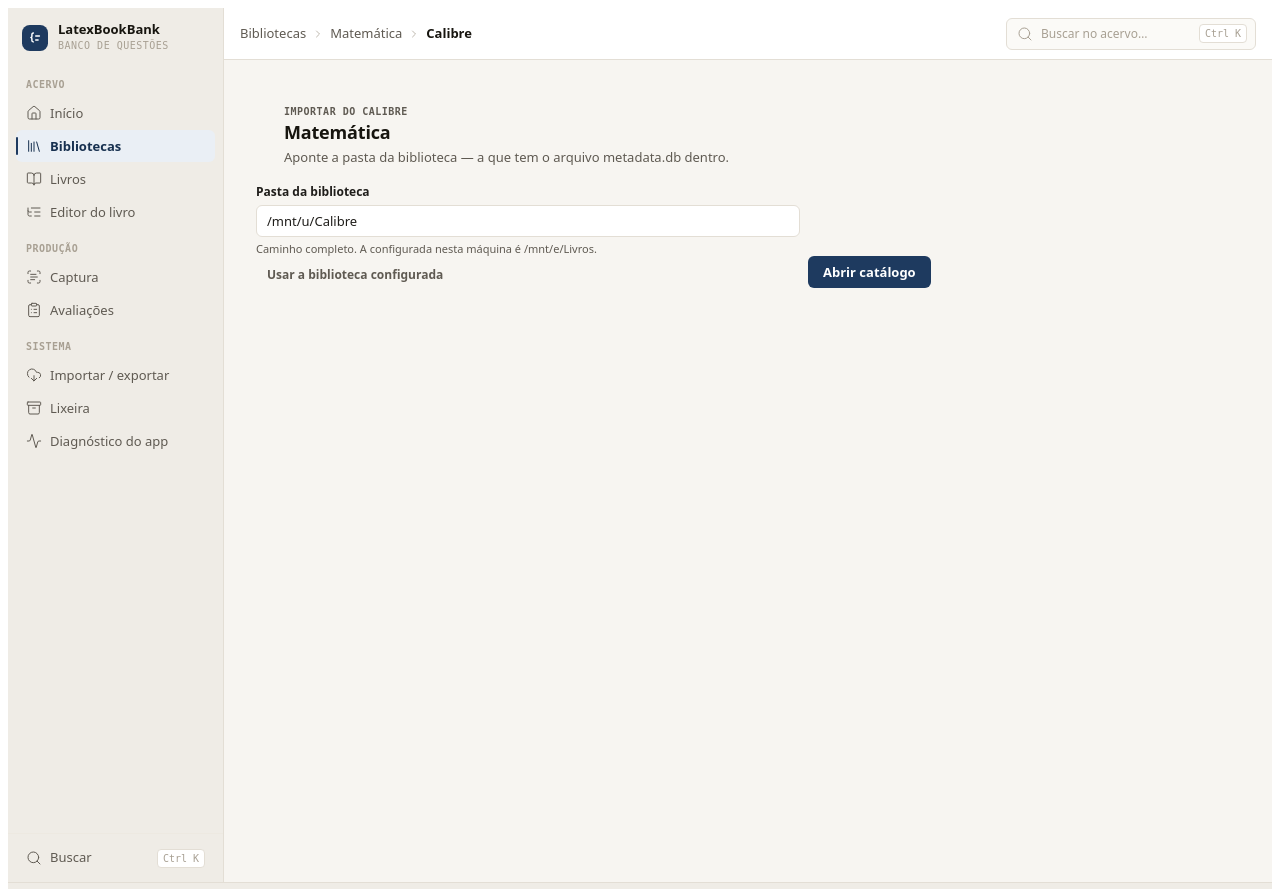
pasta do Calibre configurada no ambiente › o caminho já escolhido ganha da configuração — e volta com um clique
expect the field with placeholder "/mnt/e/Livros" holds "/mnt/u/Calibre": met, box [256,205,800,237]
# Mas o caminho de volta está à vista, e é isso que conserta a biblioteca que mudou de lugar.
Click the button "Usar a biblioteca configurada": (355, 274) [256,262,454,288]
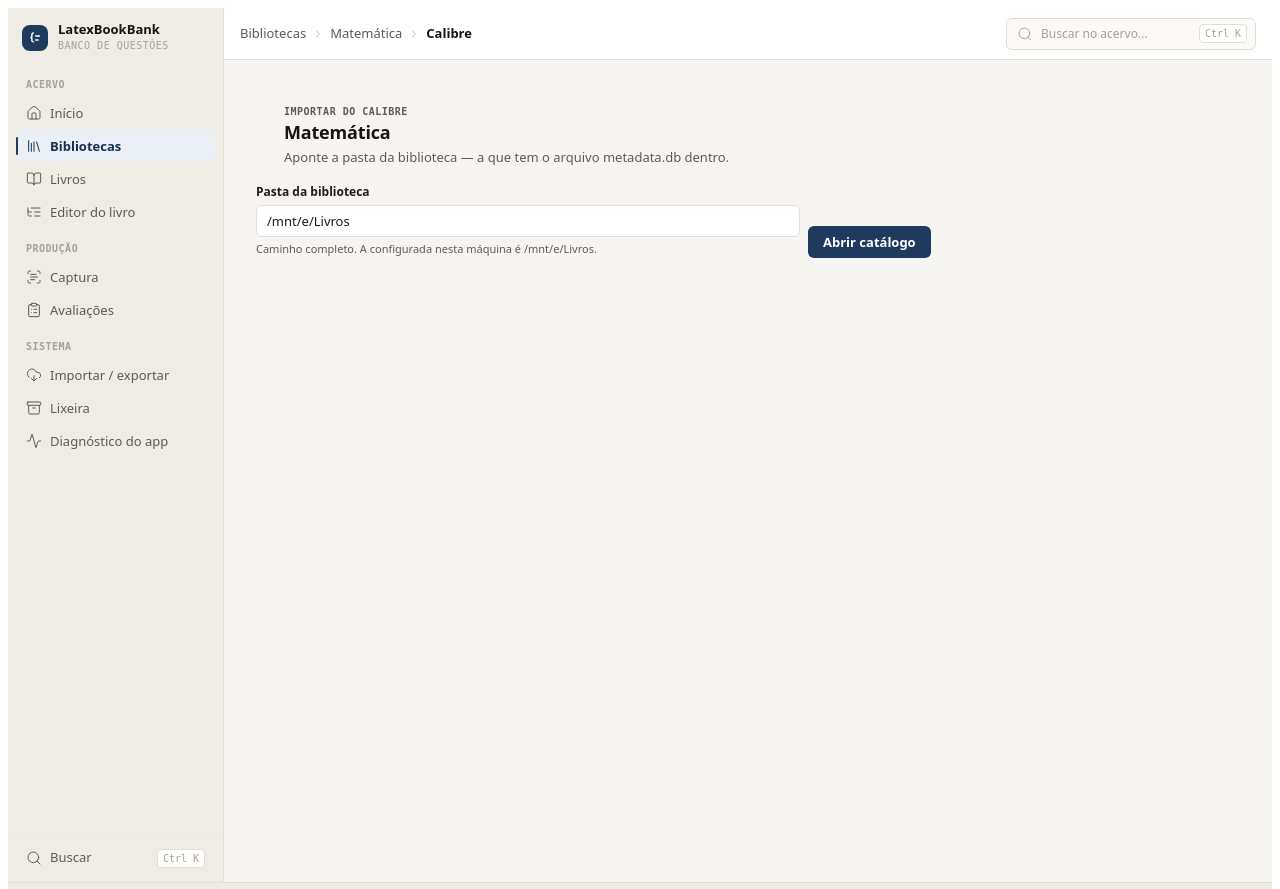
expect the field with placeholder "/mnt/e/Livros" holds "/mnt/e/Livros": met, box [256,205,800,237]
